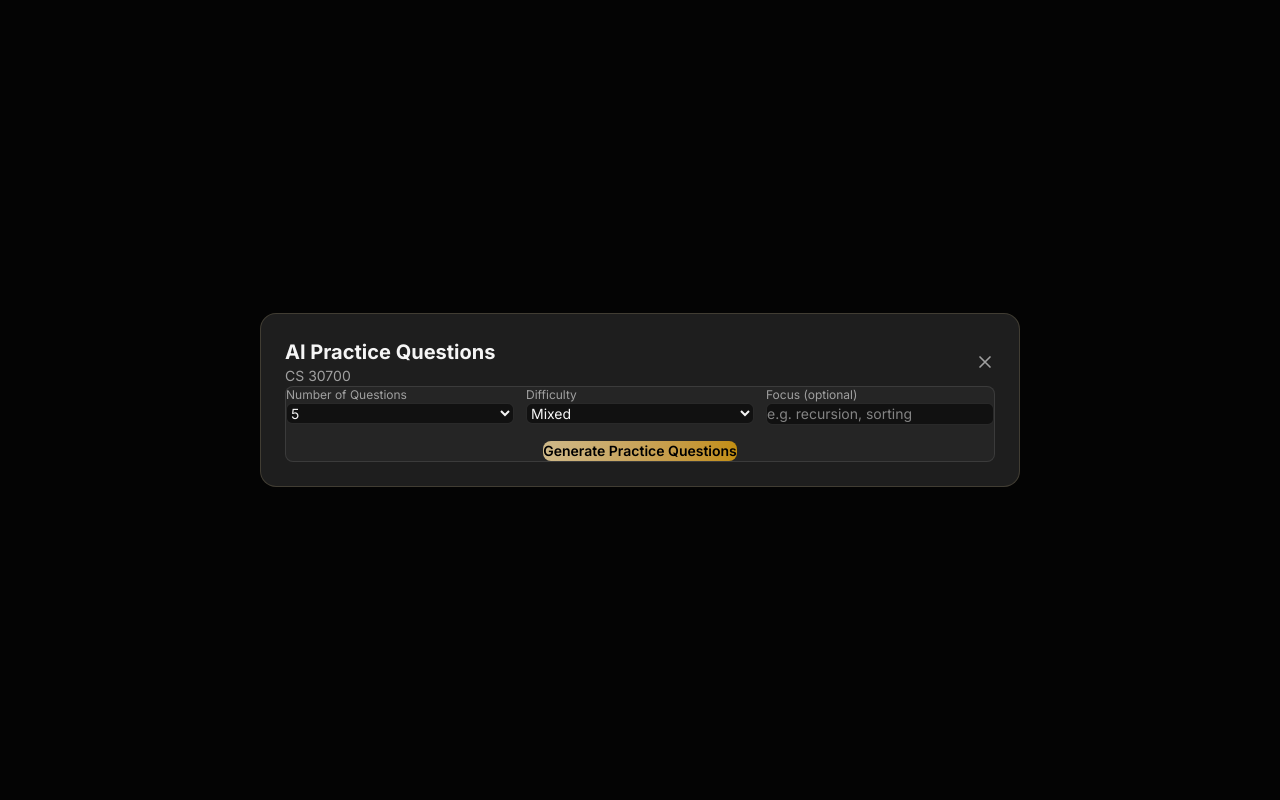
Test case: PracticeQuestions › navigates one question at a time with arrow buttons
The image size is (1280, 800).
Click the button "Generate Practice Questions" at (640, 451), box [543,441,737,461]
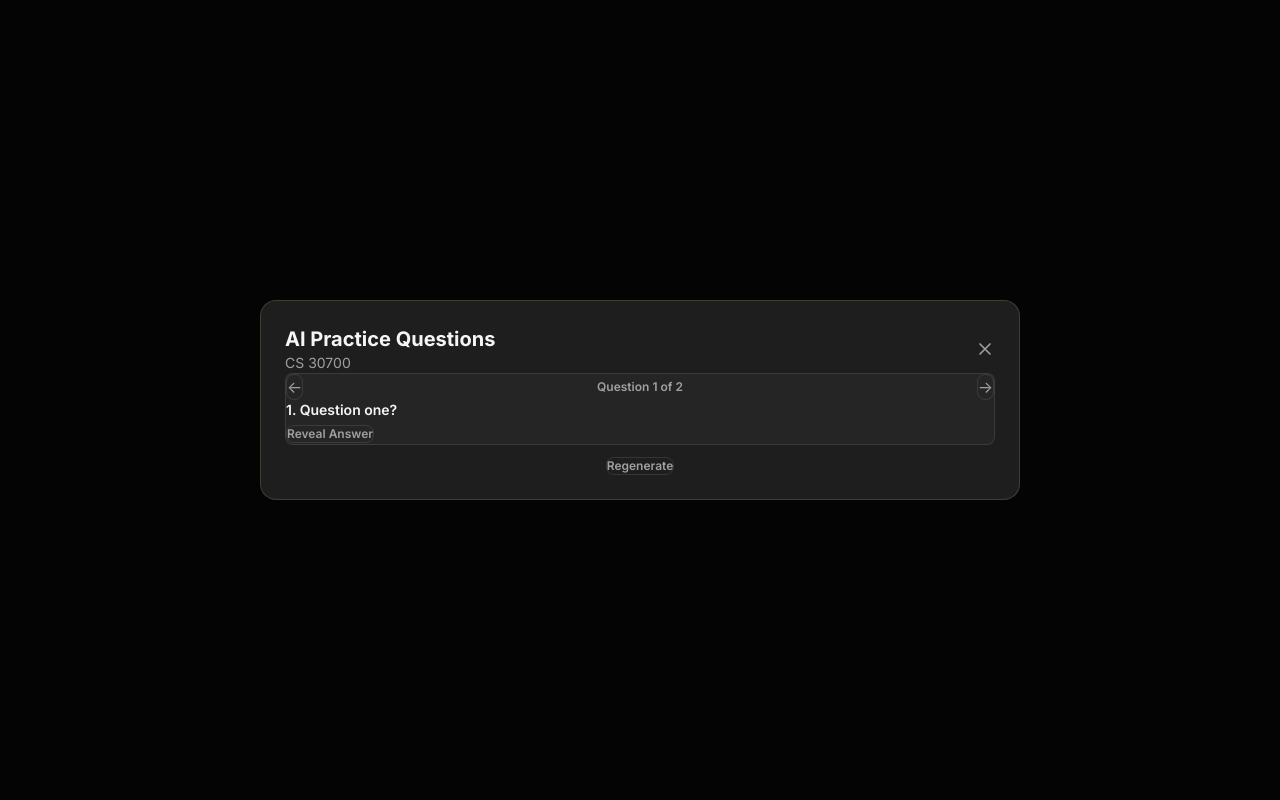
Expected: the text "2. Question two?" is not shown
Now the text "1. Question one?" is shown, box [286,401,397,418]
Click the button named "Next question" at (985, 387), box [977,374,994,400]
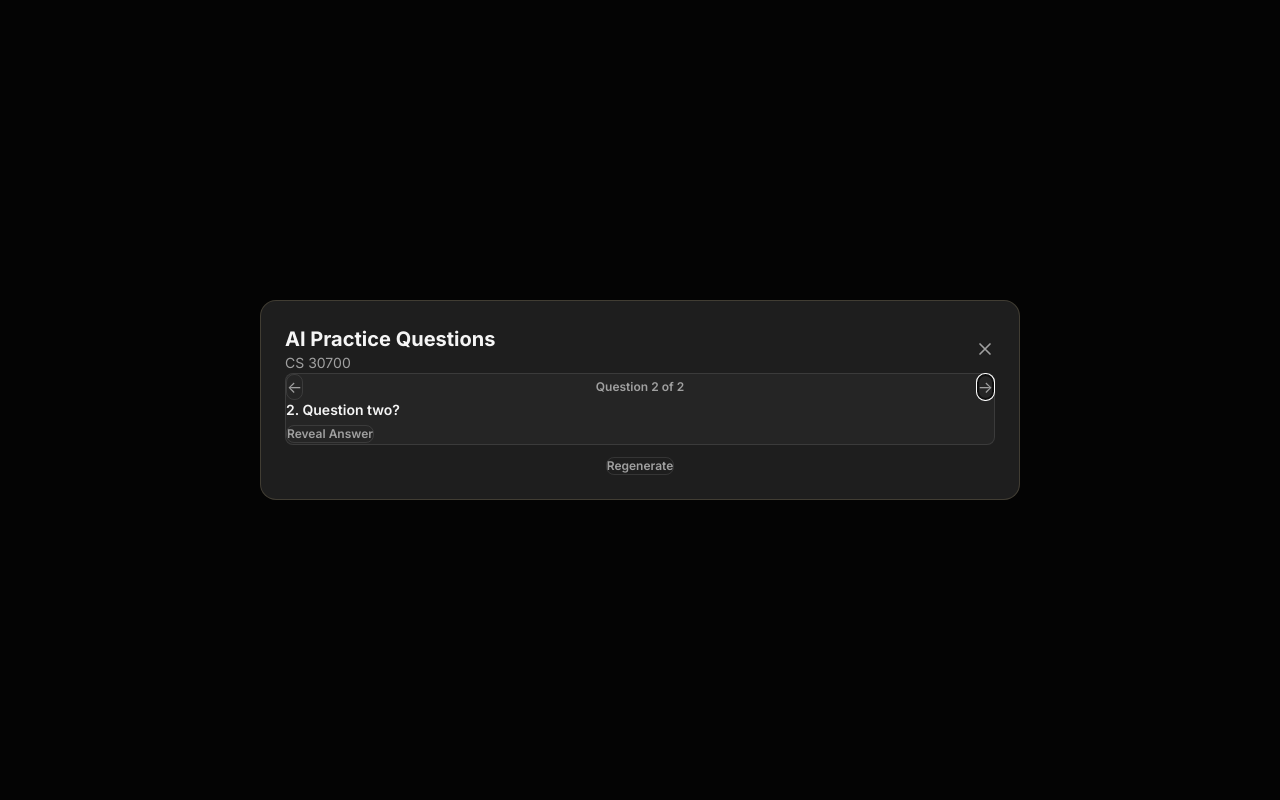
Now the text "2. Question two?" is shown, box [286,401,400,418]
Now the text "1. Question one?" is gone
Click the button named "Previous question" at (295, 387), box [286,374,303,400]
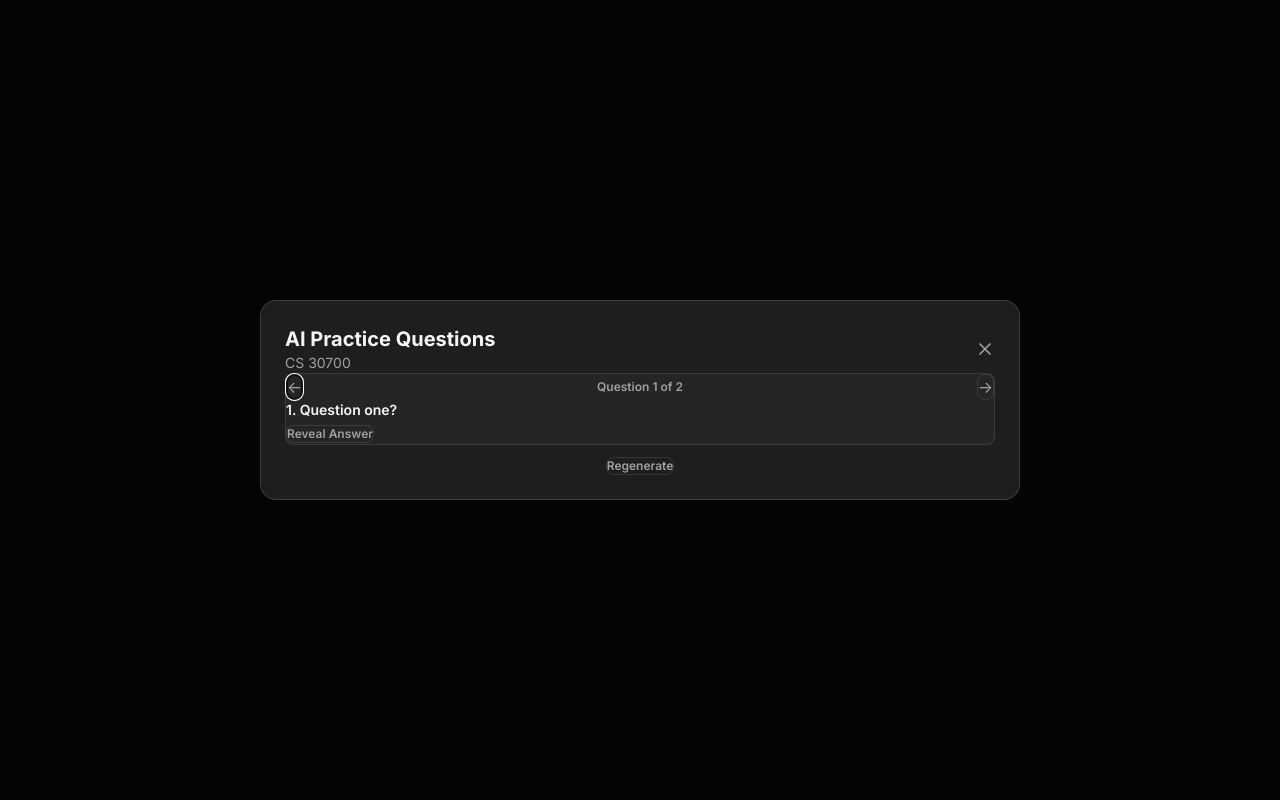
Now the text "1. Question one?" is shown, box [286,401,397,418]
